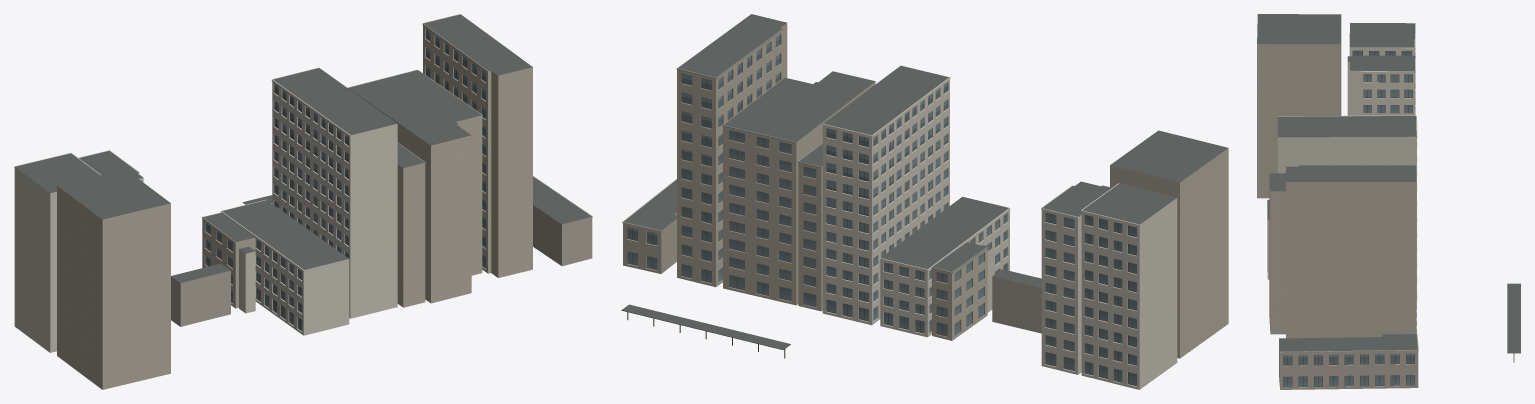
File: near.gltf
3 renders of one model, left to right at view 1: azimuth 30°, elevation 25°; view 2: azimuth 150°, elevation 25°; view 3: azimuth 270°, elevation 25°, orthographic. The views are drawn at different scales.
Parts seen in each view (by area): view 1: cell-e001-s001_near_stone, cell-e001-s001_near_plaster, cell-e001-s001_near_roof, cell-e001-s001_near_glass, cell-e001-s001_near_tile-wall, cell-e001-s001_near_frame, cell-e001-s001_near_granite; view 2: cell-e001-s001_near_plaster, cell-e001-s001_near_stone, cell-e001-s001_near_roof, cell-e001-s001_near_glass, cell-e001-s001_near_frame, cell-e001-s001_near_tile-wall, cell-e001-s001_near_granite; view 3: cell-e001-s001_near_stone, cell-e001-s001_near_roof, cell-e001-s001_near_plaster, cell-e001-s001_near_tile-wall, cell-e001-s001_near_glass, cell-e001-s001_near_frame.
Part boxes in pixels (left/top/right/bottom): cell-e001-s001_near_stone: left=57, top=25, right=532, bottom=389; cell-e001-s001_near_plaster: left=14, top=67, right=397, bottom=352; cell-e001-s001_near_roof: left=15, top=14, right=591, bottom=282; cell-e001-s001_near_glass: left=206, top=29, right=485, bottom=330; cell-e001-s001_near_tile-wall: left=171, top=176, right=592, bottom=326; cell-e001-s001_near_frame: left=205, top=38, right=485, bottom=330; cell-e001-s001_near_granite: left=202, top=14, right=487, bottom=304; cell-e001-s001_near_plaster: left=822, top=77, right=1177, bottom=389; cell-e001-s001_near_stone: left=677, top=23, right=1228, bottom=358; cell-e001-s001_near_roof: left=621, top=14, right=1227, bottom=349; cell-e001-s001_near_glass: left=627, top=35, right=1136, bottom=385; cell-e001-s001_near_frame: left=621, top=35, right=1136, bottom=386; cell-e001-s001_near_tile-wall: left=622, top=179, right=1041, bottom=333; cell-e001-s001_near_granite: left=676, top=28, right=987, bottom=337; cell-e001-s001_near_stone: left=1257, top=24, right=1416, bottom=338; cell-e001-s001_near_roof: left=1257, top=14, right=1520, bottom=352; cell-e001-s001_near_plaster: left=1267, top=23, right=1417, bottom=302; cell-e001-s001_near_tile-wall: left=1279, top=334, right=1418, bottom=389; cell-e001-s001_near_glass: left=1283, top=50, right=1414, bottom=386; cell-e001-s001_near_frame: left=1283, top=51, right=1520, bottom=387.
Size of the model in its own units: 95.68 by 36.77 by 47.94.
7 materials, 5 textured.
